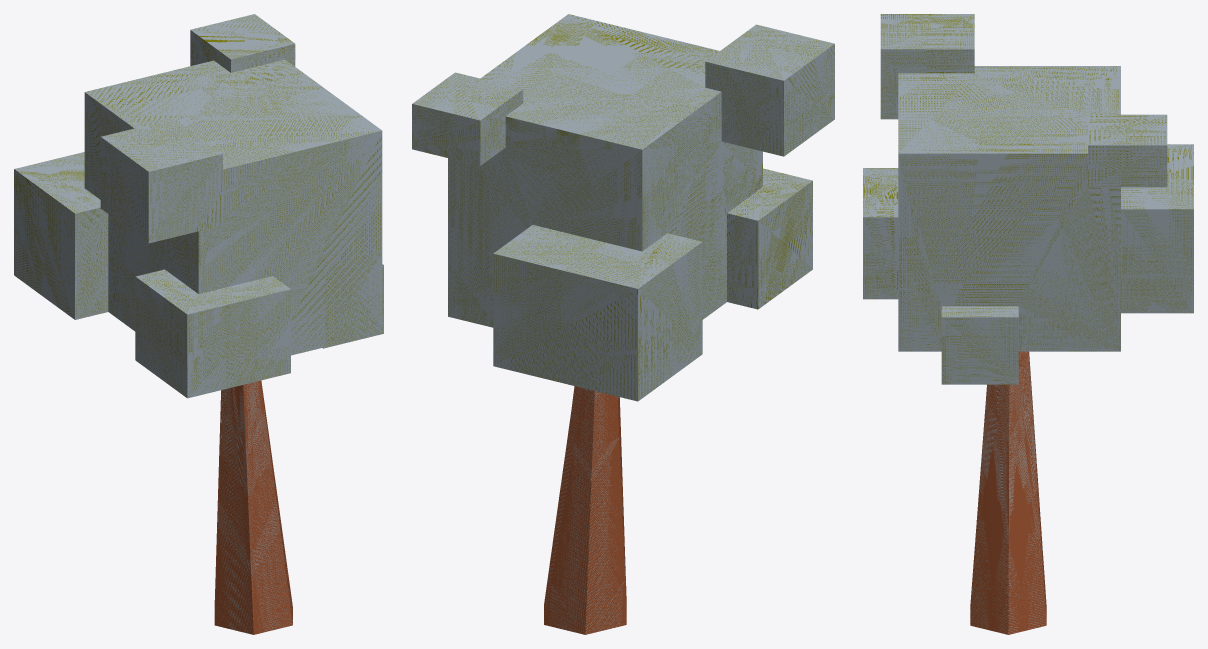
The model's file is strom_stvorec.obj.
3 views of the same model, side by side, from view 1: azimuth 30°, elevation 25°; view 2: azimuth 150°, elevation 25°; view 3: azimuth 270°, elevation 25° (orthographic). The views are drawn at different scales.
Parts seen in each view (by area): view 1: Mesh3 koruna_stvorec1 strom_stvorec1 Model, Mesh1 kmen1 strom_stvorec1 Model; view 2: Mesh3 koruna_stvorec1 strom_stvorec1 Model, Mesh1 kmen1 strom_stvorec1 Model; view 3: Mesh3 koruna_stvorec1 strom_stvorec1 Model, Mesh1 kmen1 strom_stvorec1 Model.
Part boxes in pixels (box(x1,y1,x2,y2)): Mesh3 koruna_stvorec1 strom_stvorec1 Model: box(14, 14, 383, 398); Mesh1 kmen1 strom_stvorec1 Model: box(214, 380, 292, 634); Mesh3 koruna_stvorec1 strom_stvorec1 Model: box(412, 14, 834, 401); Mesh1 kmen1 strom_stvorec1 Model: box(544, 386, 626, 634); Mesh3 koruna_stvorec1 strom_stvorec1 Model: box(863, 14, 1193, 384); Mesh1 kmen1 strom_stvorec1 Model: box(970, 351, 1046, 634).
Bounding box in the file's own units: 1.36 × 2.61 × 1.5.
